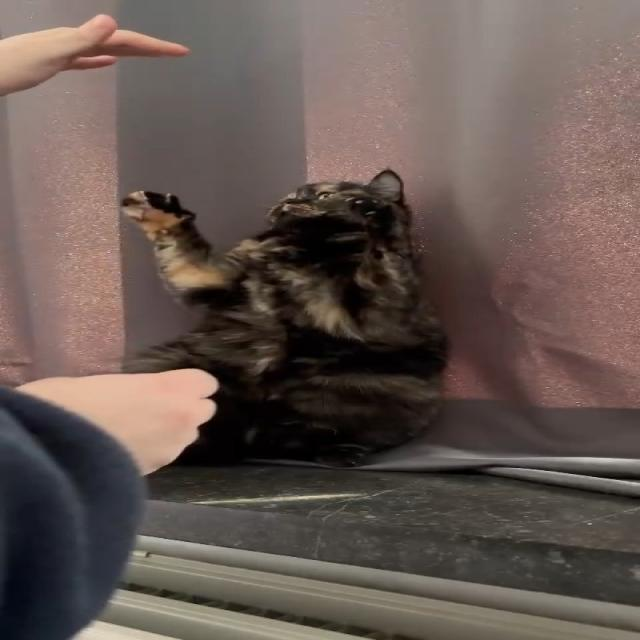authorized: (117, 167, 451, 468)
